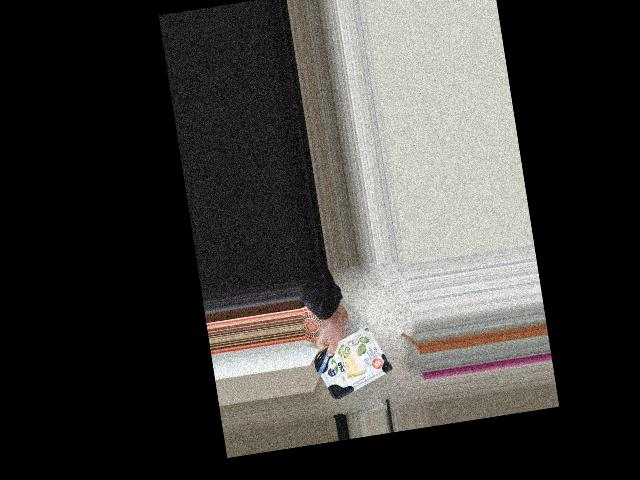cheese: (319, 331, 386, 388)
